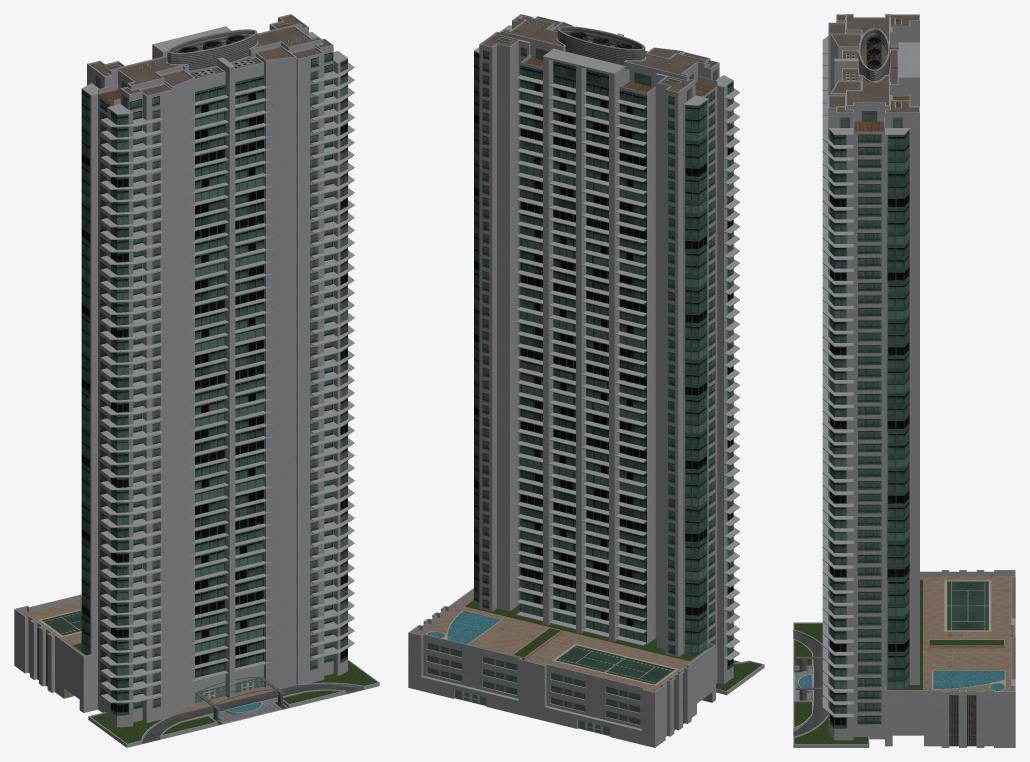
File: condo.glb
The picture shows the model from 3 angles, left to right: view 1: azimuth 30°, elevation 25°; view 2: azimuth 150°, elevation 25°; view 3: azimuth 270°, elevation 25°; orthographic projection. The views are drawn at different scales.
Visible parts, largest first — view 1: hirise8; view 2: hirise8; view 3: hirise8.
Part boxes in pixels (bbox=[...]): hirise8: bbox=[14, 14, 379, 747]; hirise8: bbox=[408, 14, 764, 747]; hirise8: bbox=[793, 14, 1015, 747].
Bounding box in the file's own units: 6666 × 16249 × 5130.
1 material, 1 textured.
